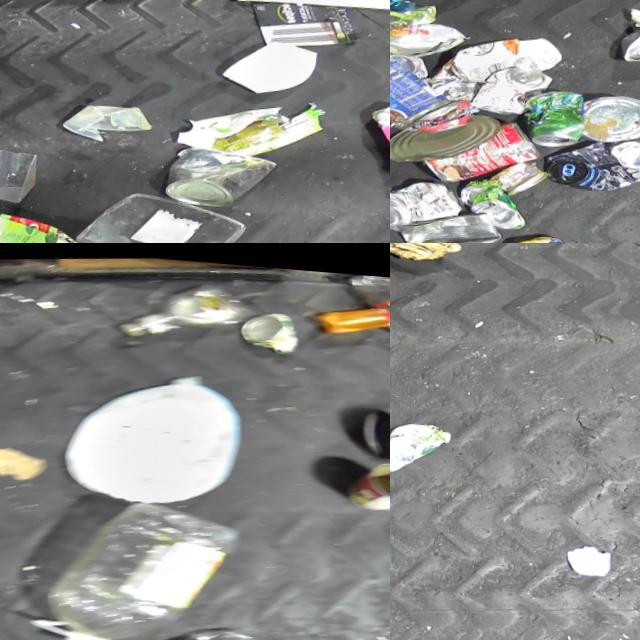can: (420, 108, 547, 187), (163, 133, 283, 210), (390, 103, 505, 167), (545, 124, 640, 193), (390, 51, 458, 137), (468, 57, 559, 118), (390, 172, 468, 234), (397, 200, 509, 243), (523, 83, 591, 148), (460, 173, 531, 230), (390, 15, 468, 61), (581, 82, 640, 141), (238, 301, 300, 351), (489, 153, 552, 196), (346, 446, 390, 507), (501, 224, 585, 243), (390, 48, 432, 80), (620, 7, 640, 62)
milk_jug: (58, 357, 252, 511)
non_white_jug: (0, 195, 105, 243)
plastic_bottle: (23, 480, 255, 640), (344, 265, 390, 346)
